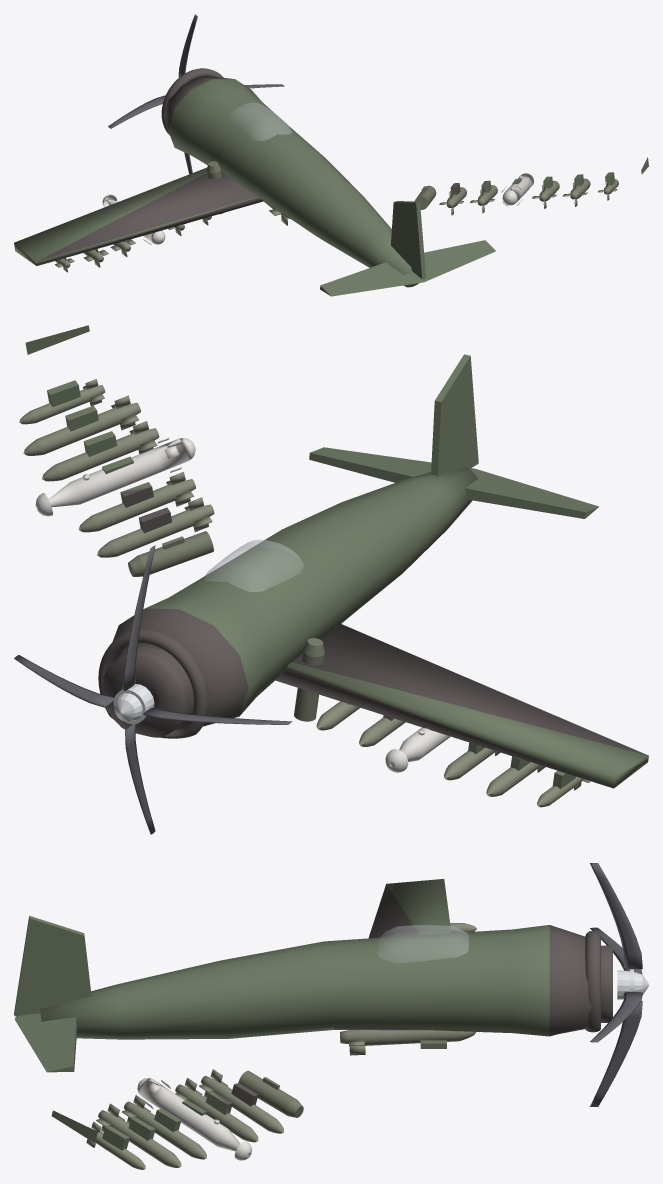
File: a1_skyraider_crashed.glb
The picture shows the model from 3 angles, top to bottom: view 1: azimuth 30°, elevation 25°; view 2: azimuth 150°, elevation 25°; view 3: azimuth 270°, elevation 25°; orthographic projection. The views are drawn at different scales.
Visible parts, largest first — view 1: A1_Skyraider_Body, A1_Propeller, wreck_wing_l, Ord_L4_Napalm; view 2: A1_Skyraider_Body, A1_Propeller, Ord_L4_Napalm, wreck_wing_l, Ord_L3_Mk82, Ord_L2_Mk82, Ord_L6_Mk82, Ord_L5_Mk82, Ord_L1_RocketPod, Ord_R4_Napalm, Ord_R1_RocketPod, Ord_L7_Mk81 (+2 smaller); view 3: A1_Skyraider_Body, A1_Propeller, wreck_wing_l, Ord_L4_Napalm, Ord_Center_Mk83, Ord_L5_Mk82, Ord_L6_Mk82, Ord_L2_Mk82, Ord_L1_RocketPod, Ord_L3_Mk82, Ord_L7_Mk81.
Part boxes in pixels (x1,y1,x2,y2): A1_Skyraider_Body: (14,68,495,296); A1_Propeller: (108,14,284,174); wreck_wing_l: (450,157,648,194); Ord_L4_Napalm: (501,173,533,206); A1_Skyraider_Body: (98,354,648,789); A1_Propeller: (14,545,291,834); Ord_L4_Napalm: (35,437,195,516); wreck_wing_l: (25,325,172,533); Ord_L3_Mk82: (78,472,195,532); Ord_L2_Mk82: (97,497,214,557); Ord_L6_Mk82: (23,395,140,455); Ord_L5_Mk82: (42,421,159,481); Ord_L1_RocketPod: (128,531,213,576); Ord_R4_Napalm: (385,727,450,772); Ord_R1_RocketPod: (294,638,324,721); Ord_L7_Mk81: (19,379,105,424); A1_Skyraider_Body: (14,879,612,1072); A1_Propeller: (590,863,648,1106); wreck_wing_l: (51,1083,258,1150); Ord_L4_Napalm: (137,1078,252,1160); Ord_Center_Mk83: (340,1030,475,1055); Ord_L5_Mk82: (122,1095,206,1159); Ord_L6_Mk82: (96,1103,181,1167); Ord_L2_Mk82: (199,1069,283,1133); Ord_L1_RocketPod: (238,1070,303,1117); Ord_L3_Mk82: (175,1078,258,1142); Ord_L7_Mk81: (86,1121,145,1169).
Size of the model in its own units: 14.81 by 5.1 by 12.04.
